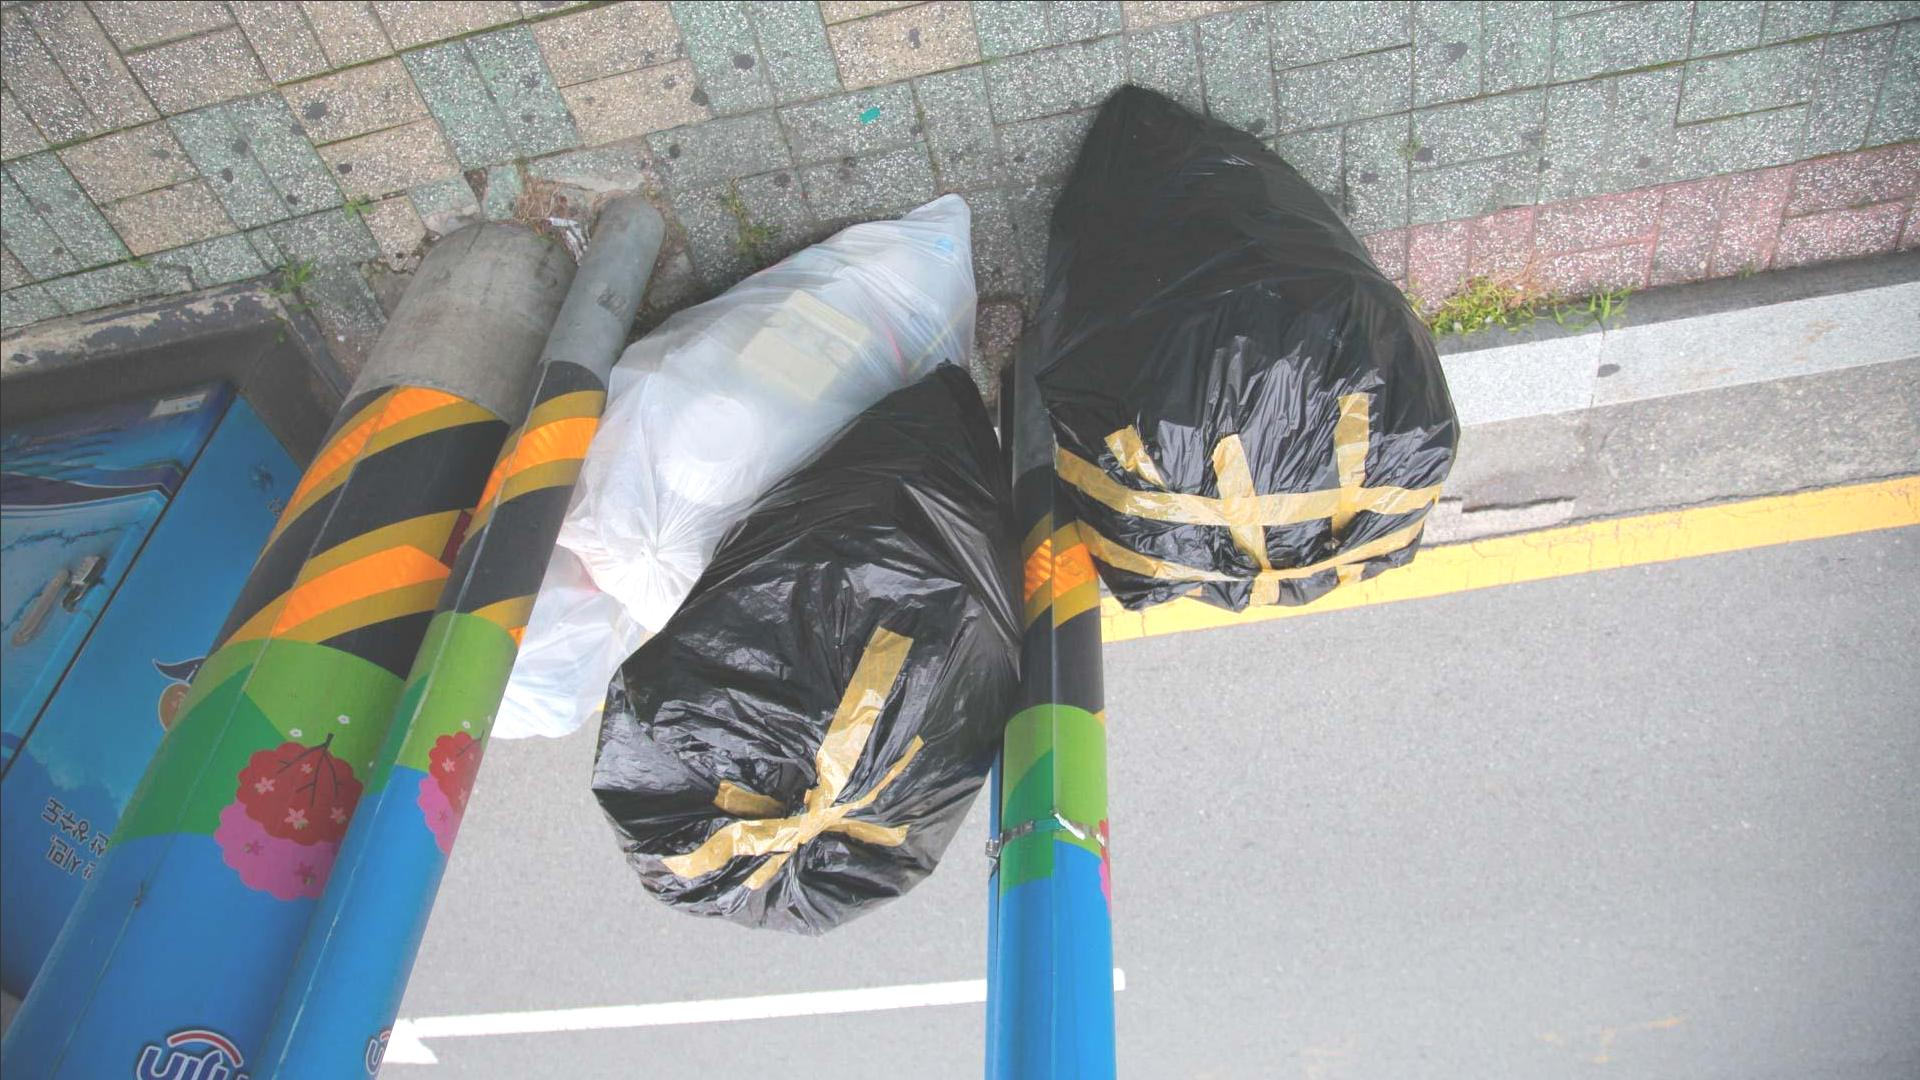black_bag: (589, 357, 1029, 948), (1027, 69, 1476, 616)
white_bag: (541, 173, 984, 651)
